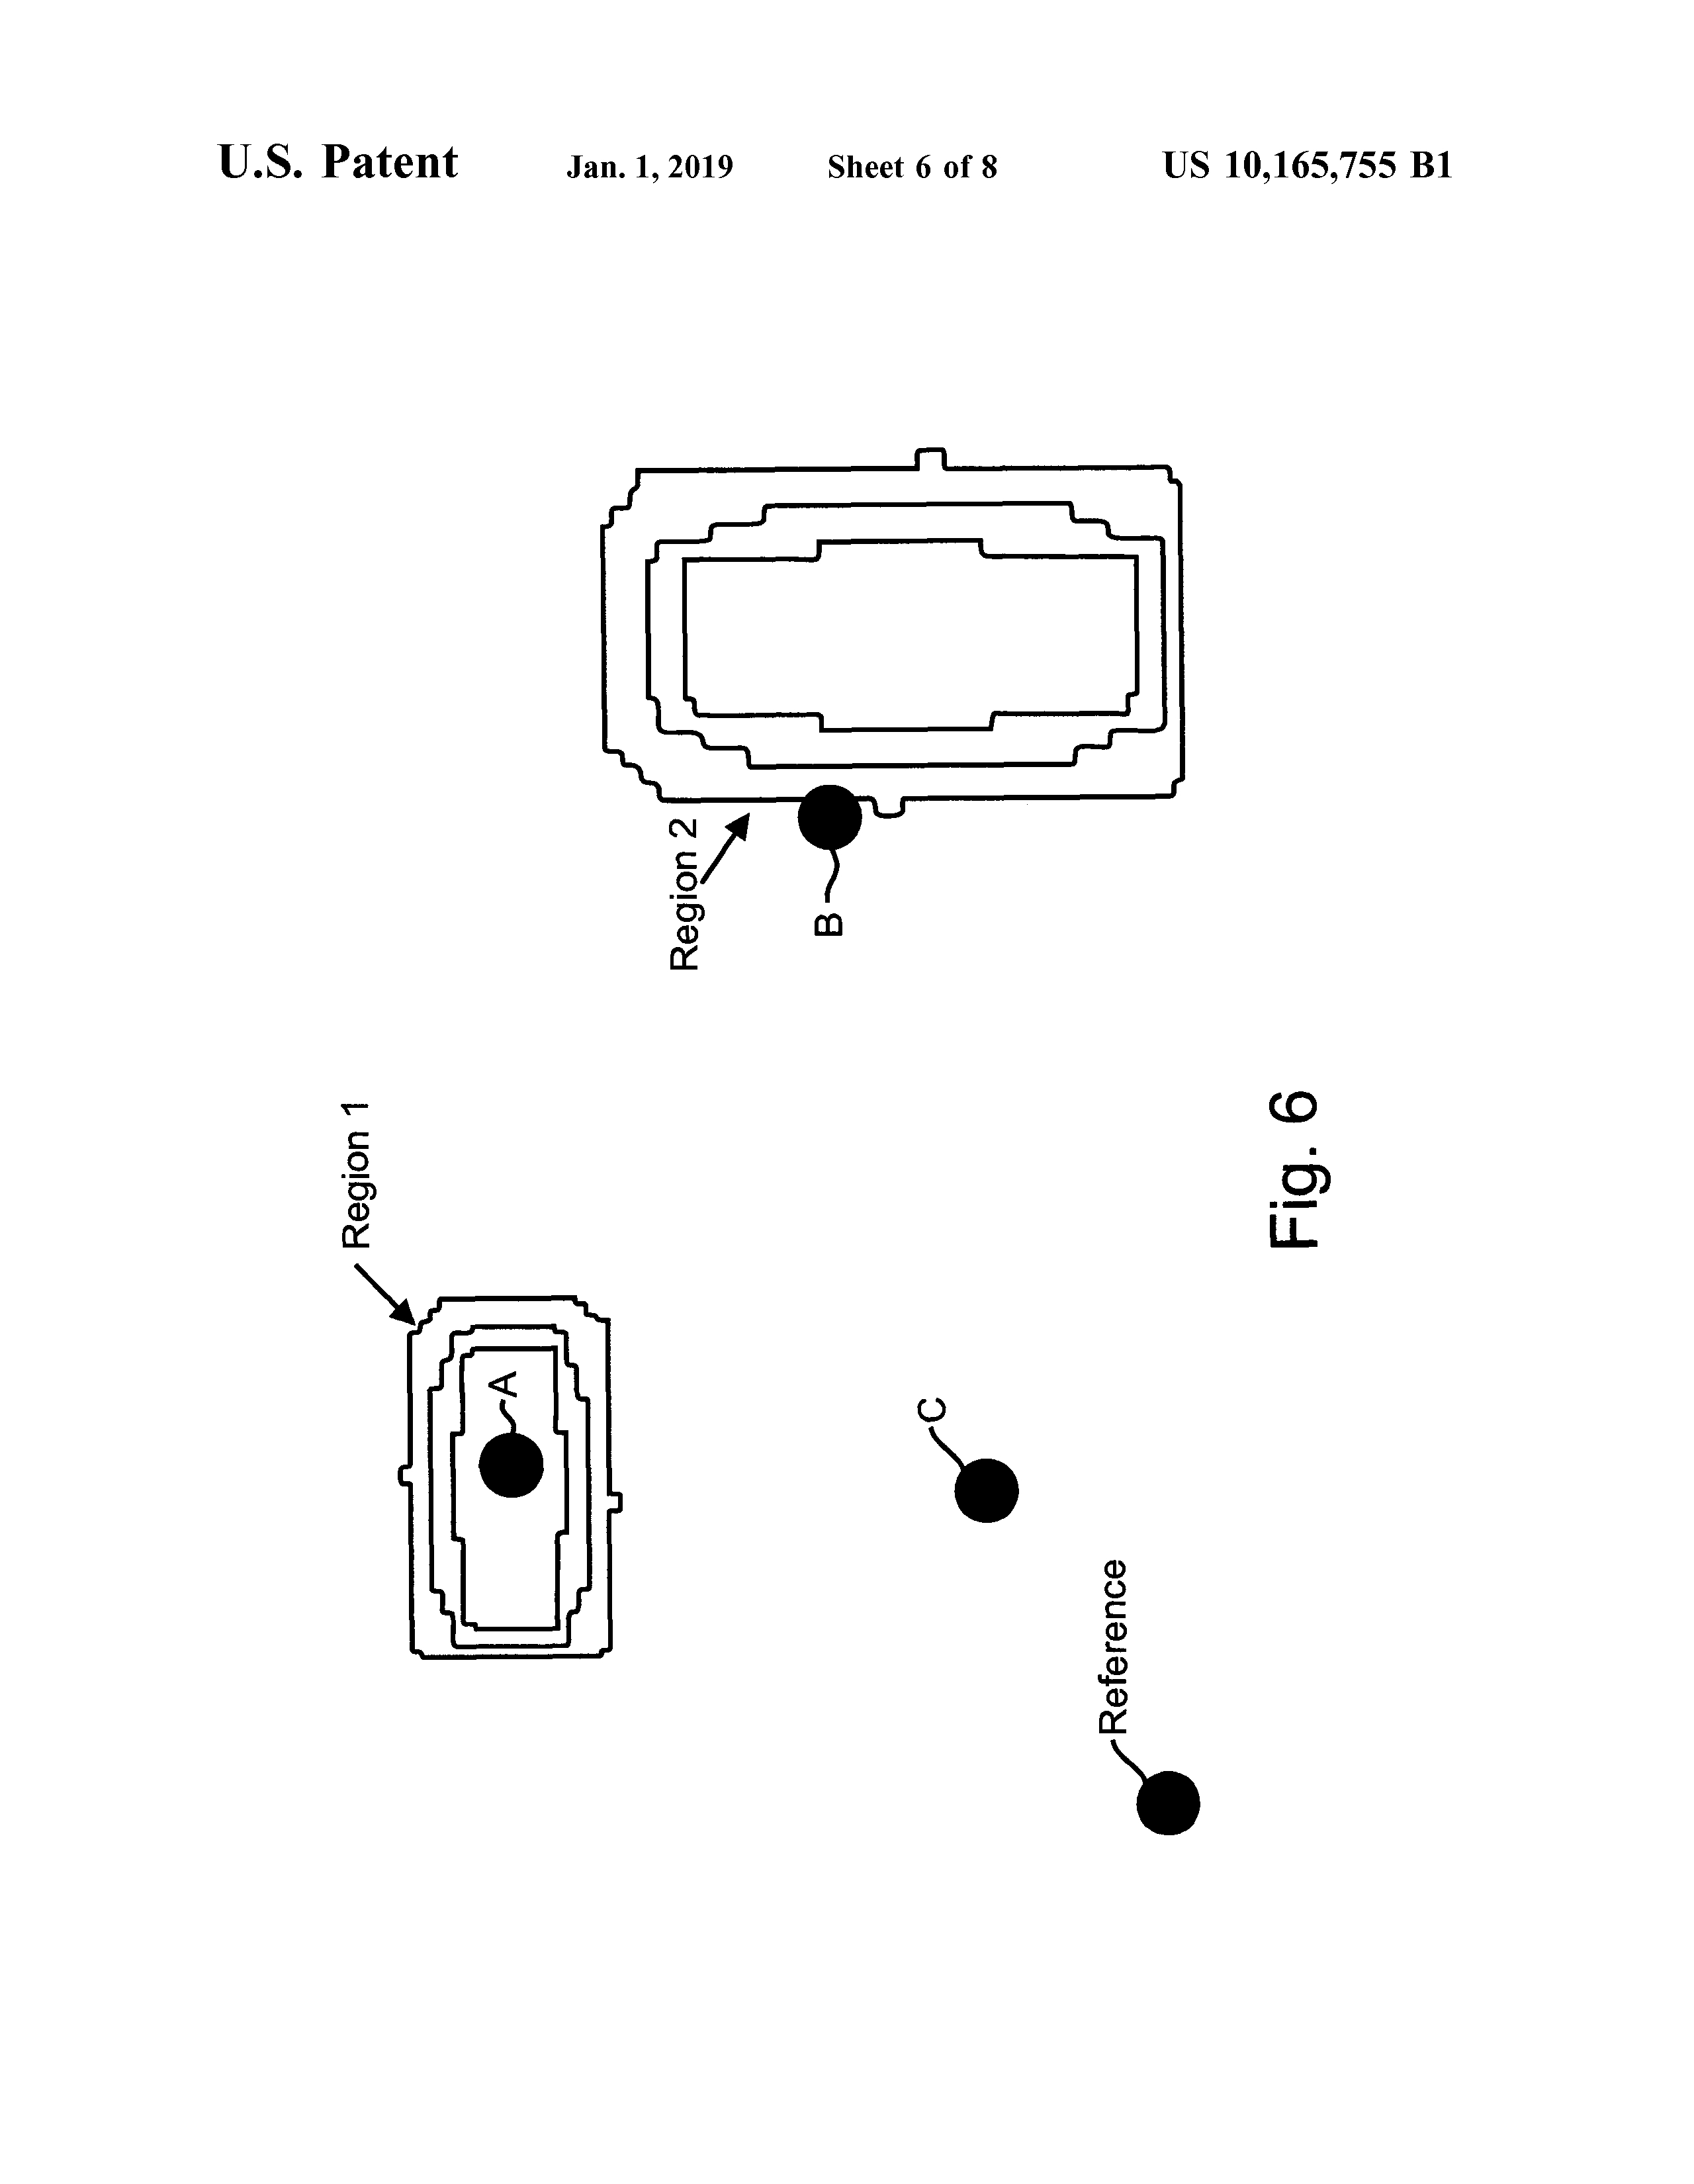patent image: (220, 331, 1366, 1903)
